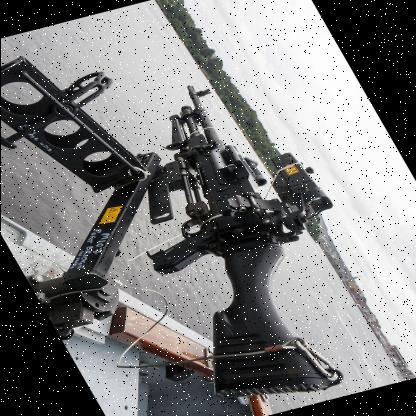rifle: (56, 74, 377, 406)
